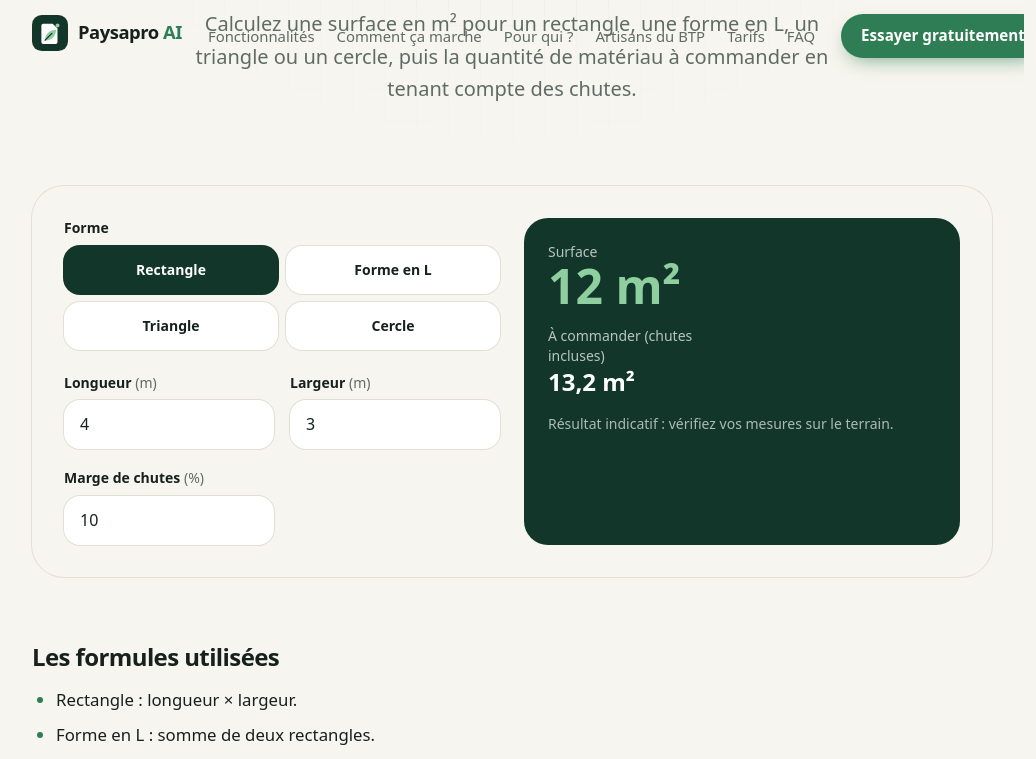
calculateurs › le calculateur de surface se met à jour à la saisie
(page scrolled)
Expected: the message shows "12 m²", 548,252 -> 681,318
Replace the text in the field labelled "Longueur (m)" with "5,5": (169, 425) 64,400 -> 274,449
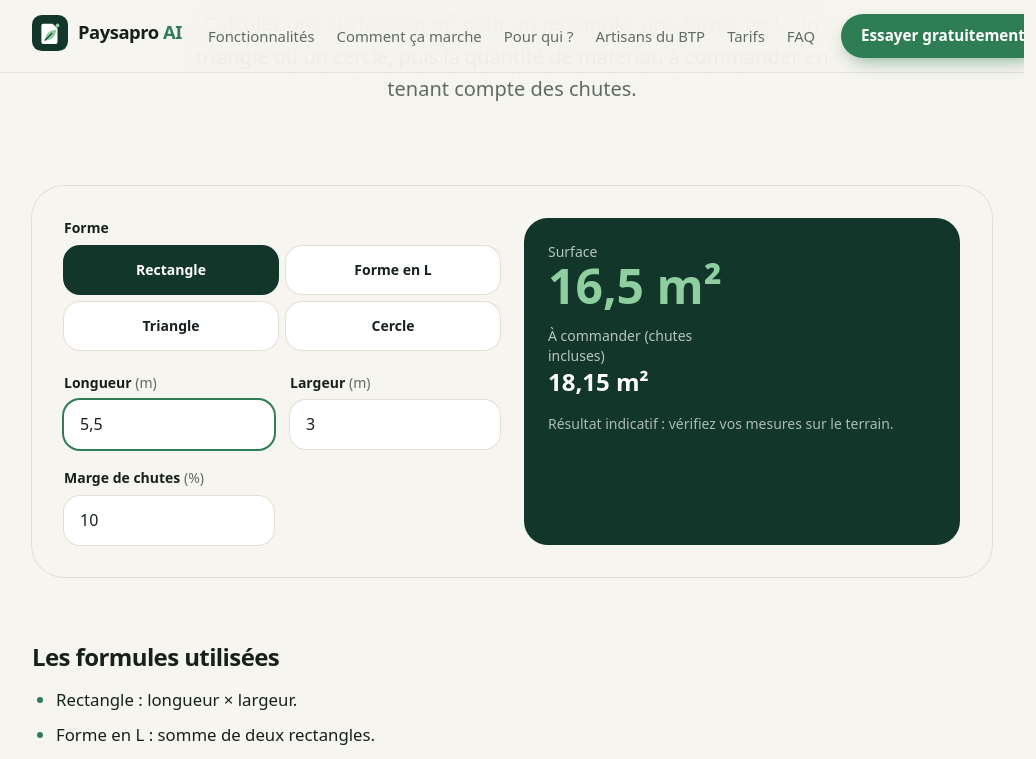
Expected: the message shows "16,5 m²", 548,252 -> 722,318
Expected: the message shows "18,15 m²", 548,364 -> 649,398
